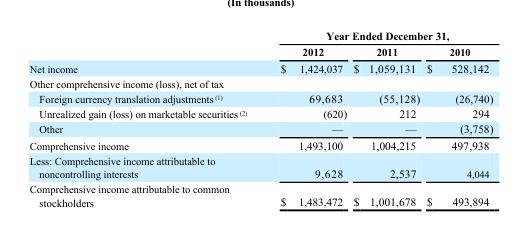table: (28, 29, 492, 207)
table column: (28, 29, 263, 207), (263, 29, 349, 207), (349, 29, 422, 207), (422, 29, 492, 207)
table column header: (28, 29, 492, 59)
table projected row header: (28, 75, 492, 90)
table row: (28, 152, 492, 181), (28, 181, 492, 207), (28, 43, 492, 59), (28, 59, 492, 75), (28, 120, 492, 136), (28, 136, 492, 152), (28, 75, 492, 90), (28, 90, 492, 105), (28, 105, 492, 120), (28, 29, 492, 43)
table spanning cell: (263, 29, 492, 43)
